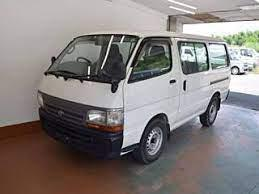Van: (36, 30, 233, 163)
